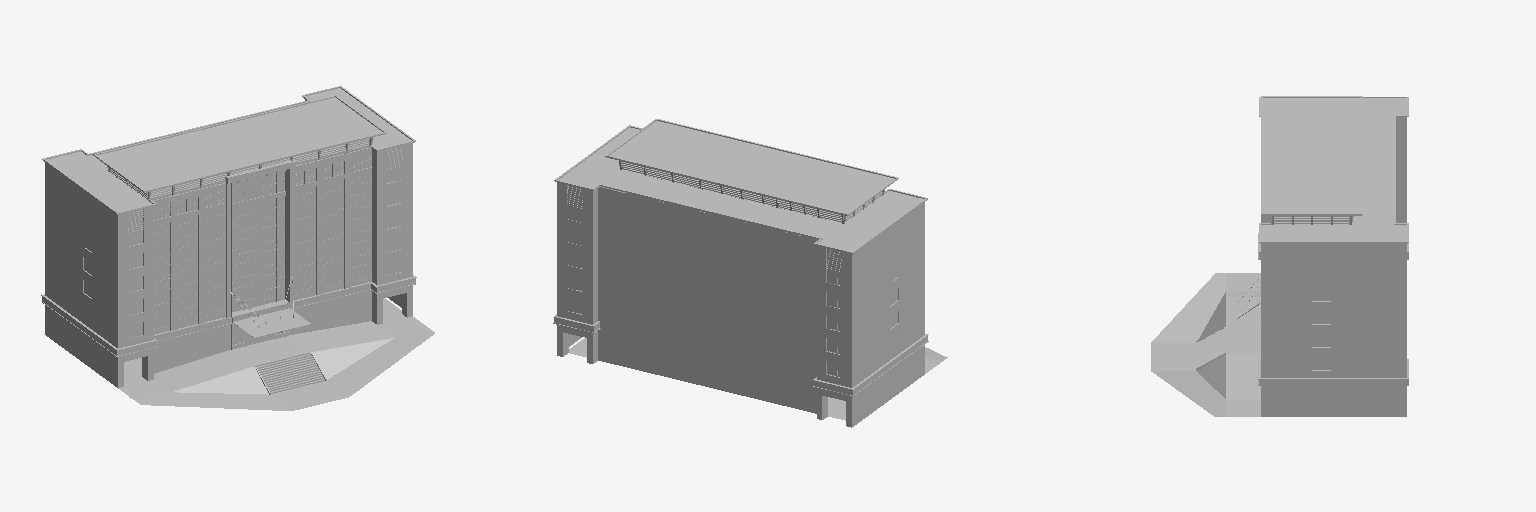
Rendered from government.obj.
3 views of the same model, side by side, from view 1: azimuth 30°, elevation 25°; view 2: azimuth 150°, elevation 25°; view 3: azimuth 270°, elevation 25° (orthographic).
Visible parts, largest first — view 1: Rectangle287, Rectangle33, Rectangle12, Line07, Line01, Line08, Line20, Line05, Line15, Rectangle06, Rectangle288, Rectangle221 (+17 smaller); view 2: Rectangle25, Rectangle33, Line20, Rectangle12, Line11, Line13, Rectangle221, Rectangle32, Line19, Line14, Line12, Line01 (+2 smaller); view 3: Rectangle284, Rectangle33, Line20, Line07, Rectangle285, Line15, Line08, Line11, Rectangle01, Rectangle402, Rectangle32, Line05 (+4 smaller).
Boxes of the visible parts, x1,y1,x2,y2 form: Rectangle287: [128, 154, 399, 344]; Rectangle33: [97, 97, 381, 189]; Rectangle12: [51, 167, 111, 343]; Line07: [136, 329, 434, 410]; Line01: [112, 206, 153, 348]; Line08: [372, 143, 412, 285]; Line20: [47, 88, 411, 211]; Line05: [118, 350, 252, 400]; Line15: [289, 314, 429, 351]; Rectangle06: [154, 324, 230, 373]; Rectangle288: [289, 290, 371, 334]; Rectangle221: [51, 310, 111, 383]; Rectangle25: [598, 187, 817, 413]; Rectangle33: [609, 121, 893, 213]; Line20: [559, 127, 923, 251]; Rectangle12: [850, 206, 919, 387]; Line11: [817, 246, 857, 387]; Line13: [560, 183, 597, 324]; Rectangle221: [852, 348, 919, 425]; Rectangle32: [605, 119, 898, 215]; Line19: [554, 125, 927, 253]; Line14: [557, 325, 597, 363]; Line12: [817, 388, 857, 427]; Line01: [920, 202, 924, 337]; Rectangle284: [1272, 244, 1406, 377]; Rectangle33: [1263, 98, 1360, 212]; Line20: [1261, 98, 1406, 240]; Line07: [1151, 273, 1225, 416]; Rectangle285: [1272, 386, 1406, 416]; Line15: [1226, 354, 1260, 416]; Line08: [1261, 244, 1271, 377]; Line11: [1396, 117, 1406, 222]; Rectangle01: [1226, 326, 1260, 353]; Rectangle402: [1226, 297, 1260, 324]; Rectangle32: [1261, 96, 1362, 214]; Line05: [1226, 273, 1260, 325].
Size of the model in its own units: 37800 by 24342 by 28251.